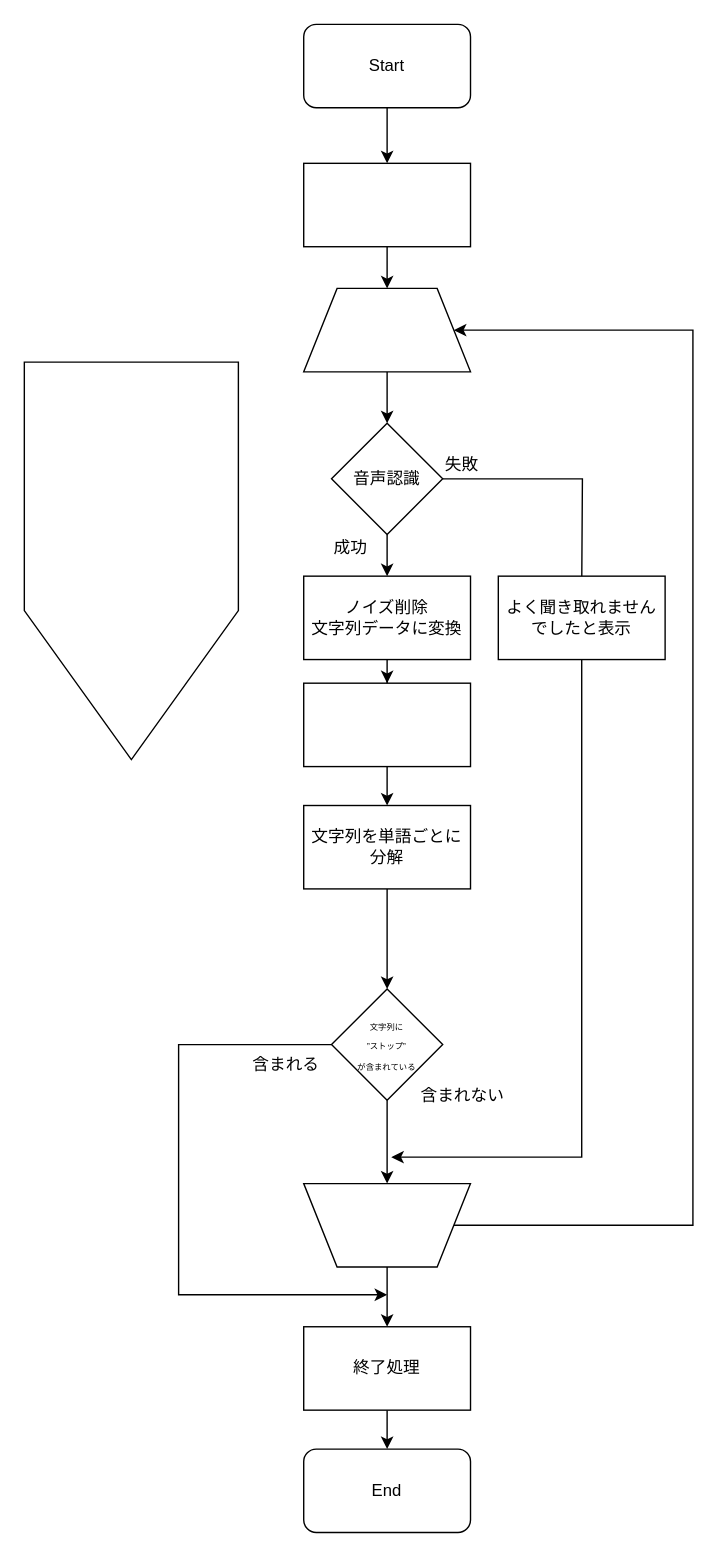
Image size: 728x1557. Some labels were removed from this diagram. The centre of each missing label's shape, as x and y in pixels:
Library import 初期化処理: the point at 386,204
ループエンド: the point at 386,1224
ループスタート: the point at 386,329
文字列の形態素分析: the point at 386,724
